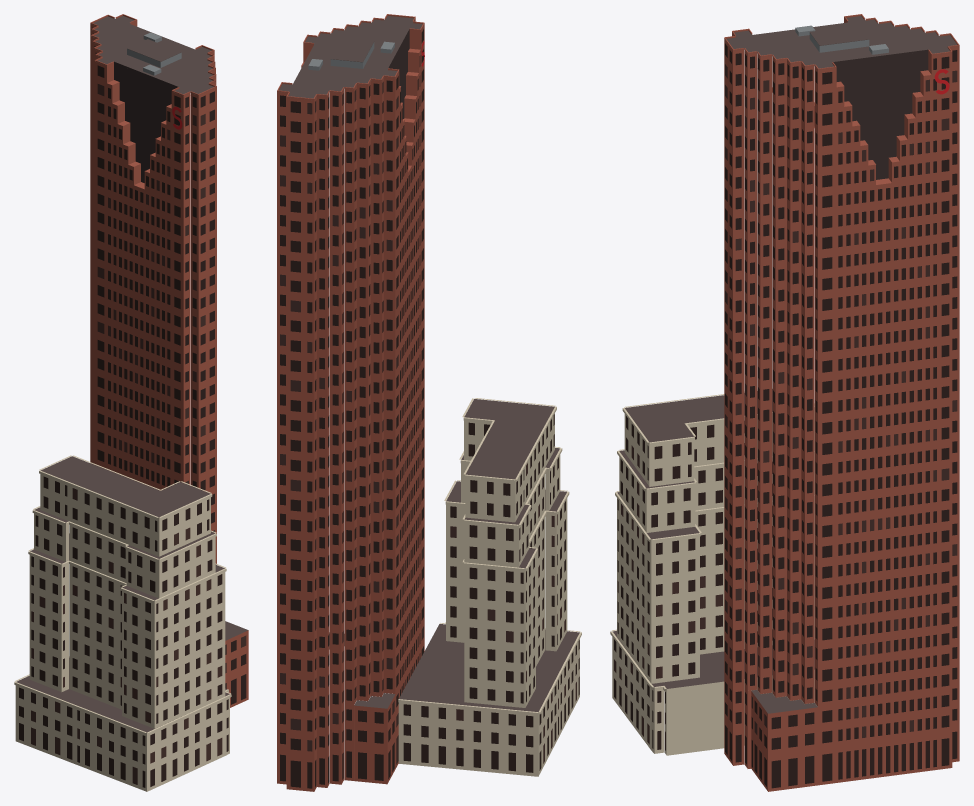
File: scotia-plaza-far.glb
3 views of the same model, side by side, from view 1: azimuth 30°, elevation 25°; view 2: azimuth 150°, elevation 25°; view 3: azimuth 270°, elevation 25° (orthographic). The views are drawn at different scales.
Visible parts, largest first — view 1: scotia-plaza-0-stone, scotia-plaza-0-granite, scotia-plaza-0-glass, scotia-plaza-0-roof, scotia-plaza-0-glow, scotia-plaza-0-curtain, scotia-plaza-0-metal; view 2: scotia-plaza-0-granite, scotia-plaza-0-glass, scotia-plaza-0-stone, scotia-plaza-0-roof, scotia-plaza-0-glow, scotia-plaza-0-curtain, scotia-plaza-0-metal; view 3: scotia-plaza-0-granite, scotia-plaza-0-glass, scotia-plaza-0-stone, scotia-plaza-0-roof, scotia-plaza-0-glow, scotia-plaza-0-curtain, scotia-plaza-0-metal.
Boxes of the visible parts, left/top/right/bottom form: scotia-plaza-0-stone: left=14, top=455, right=231, bottom=791; scotia-plaza-0-granite: left=90, top=14, right=248, bottom=707; scotia-plaza-0-glass: left=19, top=33, right=246, bottom=787; scotia-plaza-0-roof: left=16, top=16, right=248, bottom=732; scotia-plaza-0-glow: left=31, top=27, right=246, bottom=784; scotia-plaza-0-curtain: left=114, top=61, right=178, bottom=182; scotia-plaza-0-metal: left=127, top=32, right=181, bottom=75; scotia-plaza-0-granite: left=277, top=14, right=424, bottom=791; scotia-plaza-0-glass: left=280, top=29, right=579, bottom=788; scotia-plaza-0-stone: left=398, top=398, right=581, bottom=776; scotia-plaza-0-roof: left=277, top=16, right=579, bottom=711; scotia-plaza-0-glow: left=280, top=75, right=576, bottom=764; scotia-plaza-0-curtain: left=388, top=29, right=409, bottom=118; scotia-plaza-0-metal: left=308, top=41, right=394, bottom=70; scotia-plaza-0-granite: left=724, top=14, right=959, bottom=791; scotia-plaza-0-glass: left=614, top=43, right=957, bottom=788; scotia-plaza-0-stone: left=610, top=388, right=817, bottom=755; scotia-plaza-0-roof: left=612, top=16, right=956, bottom=713; scotia-plaza-0-glow: left=614, top=64, right=957, bottom=750; scotia-plaza-0-curtain: left=833, top=49, right=928, bottom=179; scotia-plaza-0-metal: left=795, top=25, right=888, bottom=54.
Bounding box in the file's own units: 99.02 × 277 × 121.
